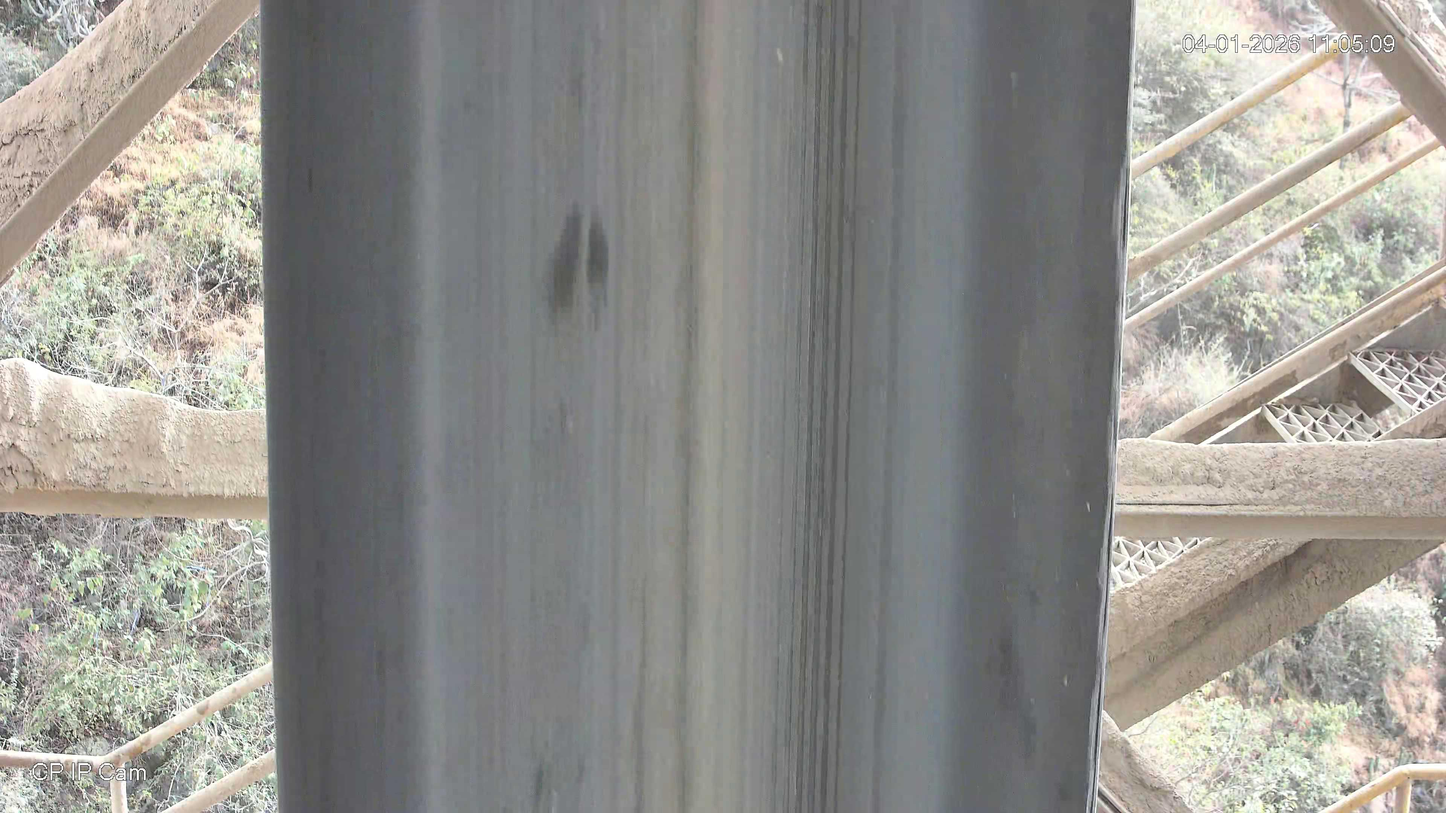belt_roi: (258, 0, 1137, 813)
